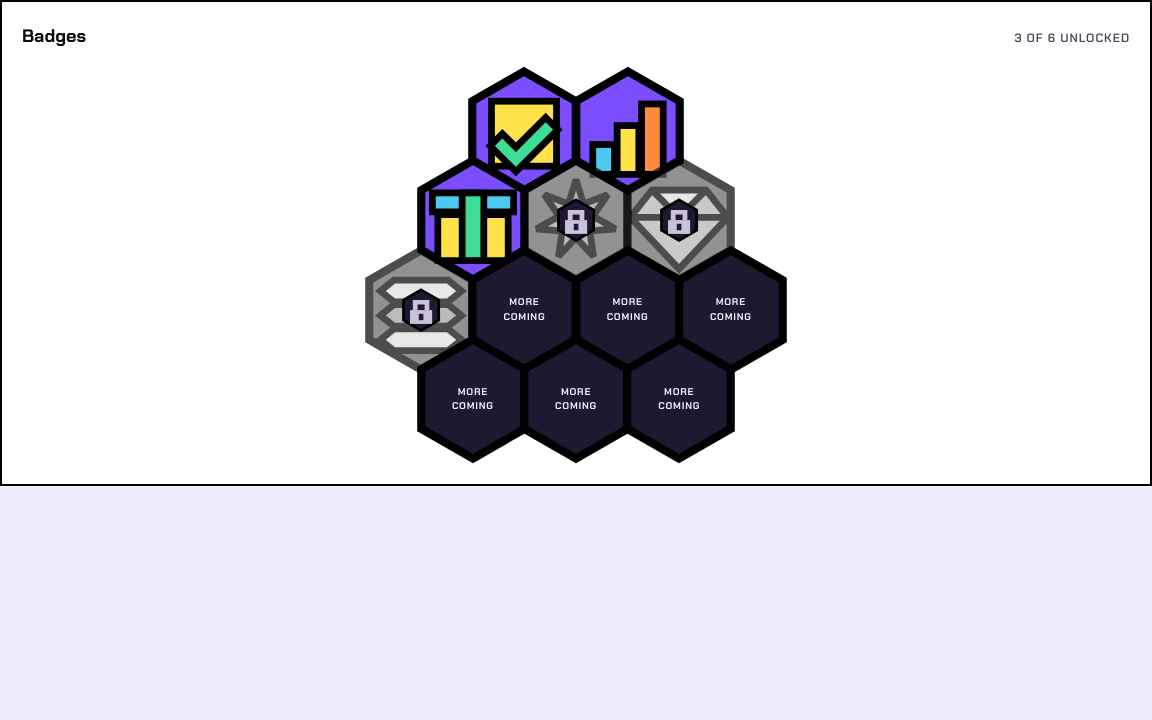
Test: the locked tip — [76b] › replaces the tip when another locked badge is clicked, and dismisses on ×
Click the button named "Badge 4, locked".
click(576, 220)  # box x1=511 y1=155 x2=641 y2=285
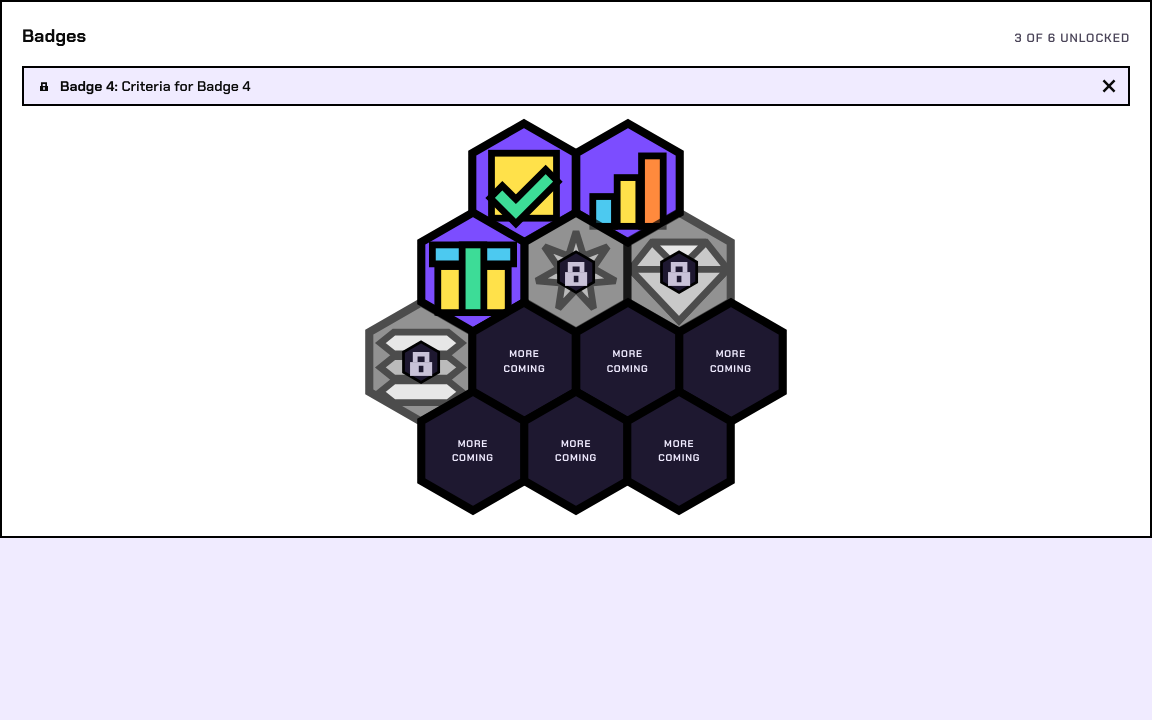
Click the button named "Badge 5, locked".
click(679, 272)  # box x1=614 y1=207 x2=744 y2=337
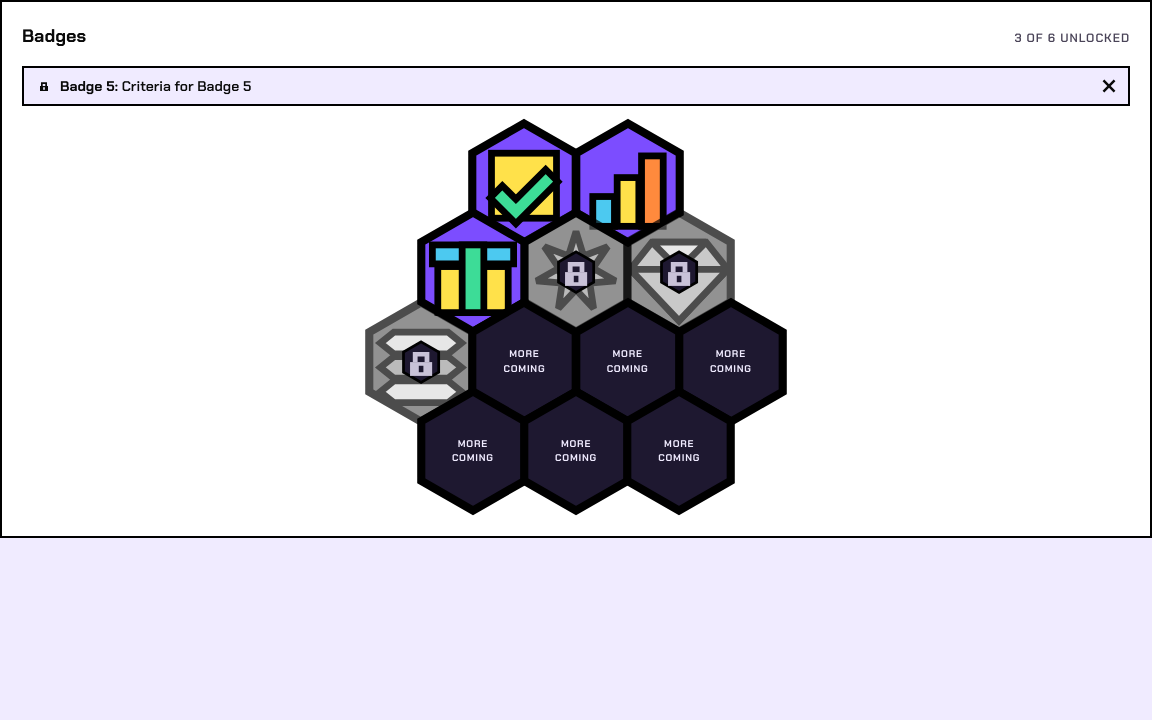
Now the message shows "Criteria for Badge 5", box x1=122 y1=77 x2=251 y2=95
Now the message no longer shows "Criteria for Badge 4", box x1=22 y1=66 x2=1130 y2=106
Click the button named "Dismiss".
click(1109, 86)  # box x1=1102 y1=79 x2=1116 y2=93
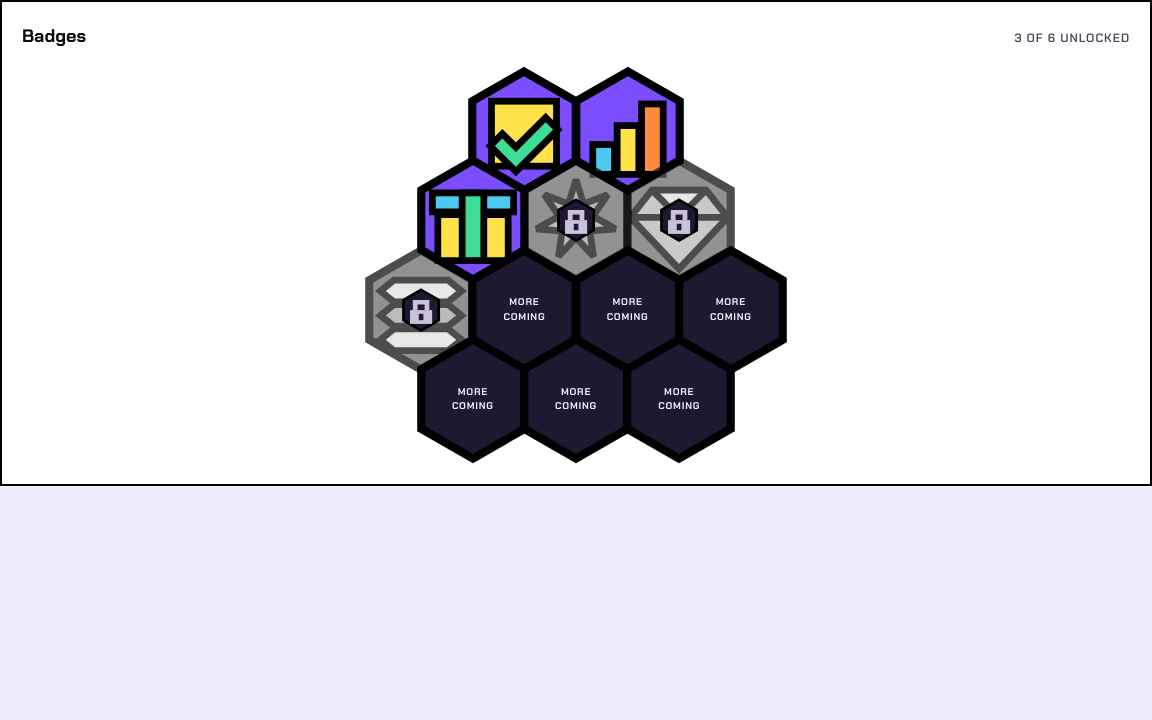
Now the message "Badge 5: Criteria for Badge 5" is gone
